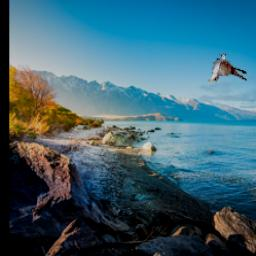Cuckoo: (208, 54, 247, 83)
